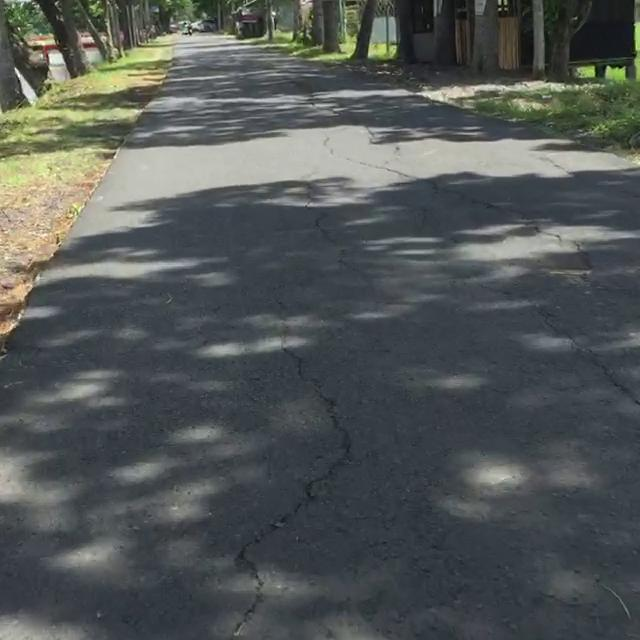retak_memanjang: (199, 254, 361, 640), (562, 361, 640, 618)
